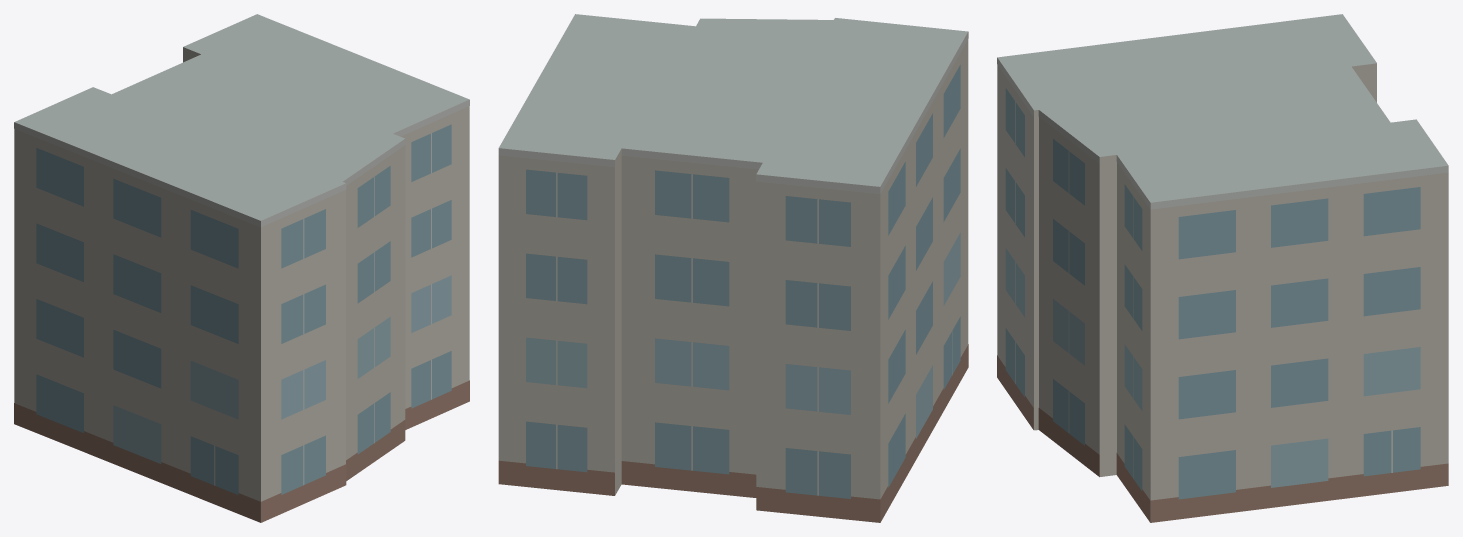
File: survey-upis-32624700.glb
The picture shows the model from 3 angles, left to right: view 1: azimuth 30°, elevation 25°; view 2: azimuth 150°, elevation 25°; view 3: azimuth 270°, elevation 25°; orthographic projection. The views are drawn at different scales.
Visible parts, largest first — view 1: survey-upis-32624700.tmp; view 2: survey-upis-32624700.tmp; view 3: survey-upis-32624700.tmp.
Boxes of the visible parts, x1,y1,x2,y2 form: survey-upis-32624700.tmp: [14, 14, 469, 522]; survey-upis-32624700.tmp: [498, 14, 968, 522]; survey-upis-32624700.tmp: [997, 14, 1448, 522].
Size of the model in its own units: 14.43 by 11.4 by 14.58.
